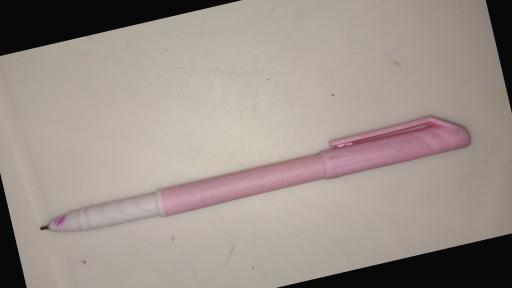pen: (36, 107, 472, 242)
